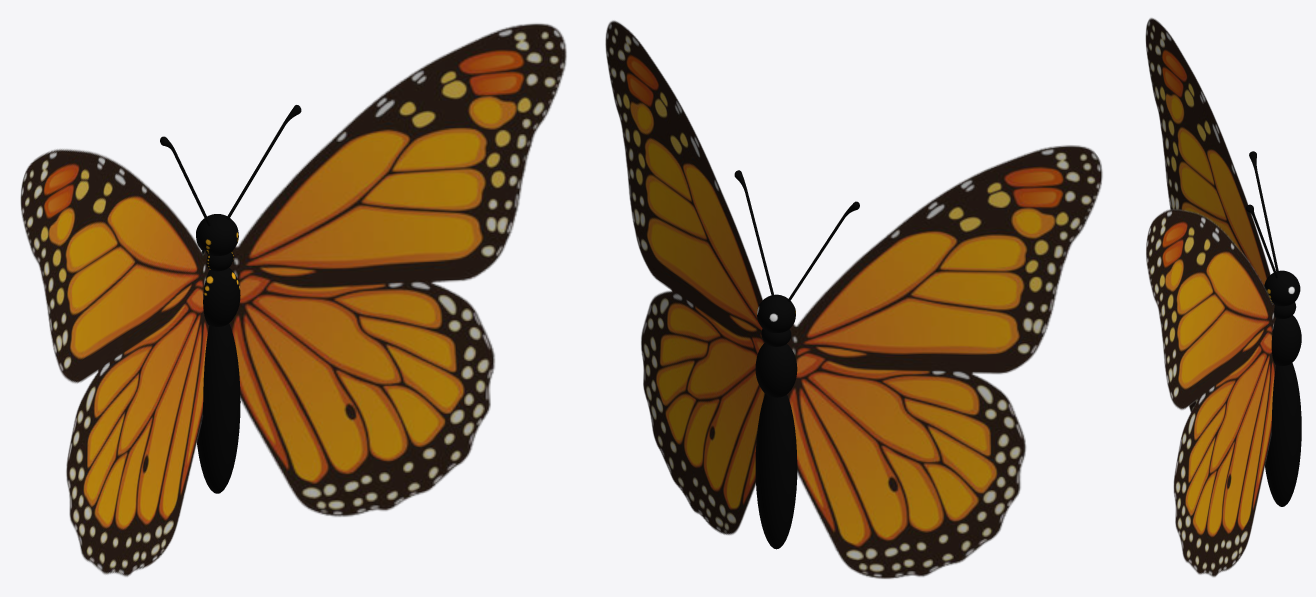
The model's file is Kupukupu.glb.
3 views of the same model, side by side, from view 1: azimuth 30°, elevation 25°; view 2: azimuth 150°, elevation 25°; view 3: azimuth 270°, elevation 25° (orthographic). The views are drawn at different scales.
Visible parts, largest first — view 1: polySurface2, pSphere6; view 2: polySurface2, pSphere6; view 3: polySurface2, pSphere6.
Part boxes in pixels (x1,y1,x2,y2): polySurface2: [20, 23, 566, 576]; pSphere6: [160, 105, 301, 493]; polySurface2: [605, 20, 1102, 578]; pSphere6: [734, 170, 859, 549]; polySurface2: [1145, 18, 1275, 577]; pSphere6: [1246, 151, 1301, 506].
Bounding box in the file's own units: 0.4015 × 0.3469 × 0.1179.
2 materials, 2 textured.
